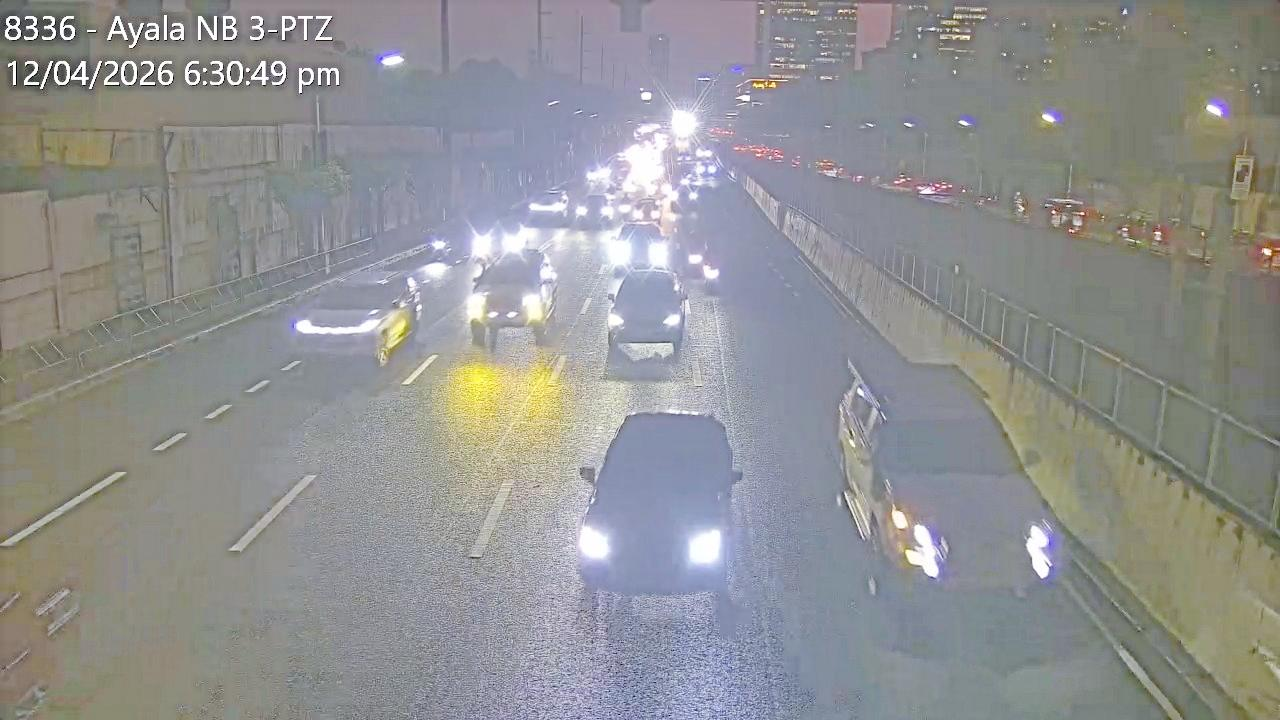Car: (842, 352, 1067, 615), (589, 402, 744, 618), (292, 275, 424, 368), (466, 245, 559, 347), (605, 263, 690, 352), (468, 207, 534, 266), (609, 220, 672, 277), (428, 203, 474, 270), (522, 185, 572, 228), (575, 191, 616, 231), (626, 194, 664, 229)
Motor: (700, 237, 724, 290), (684, 232, 706, 276)
Not Accident: (606, 195, 690, 362), (464, 214, 557, 346), (433, 205, 534, 271), (528, 183, 612, 233), (682, 232, 724, 294)
